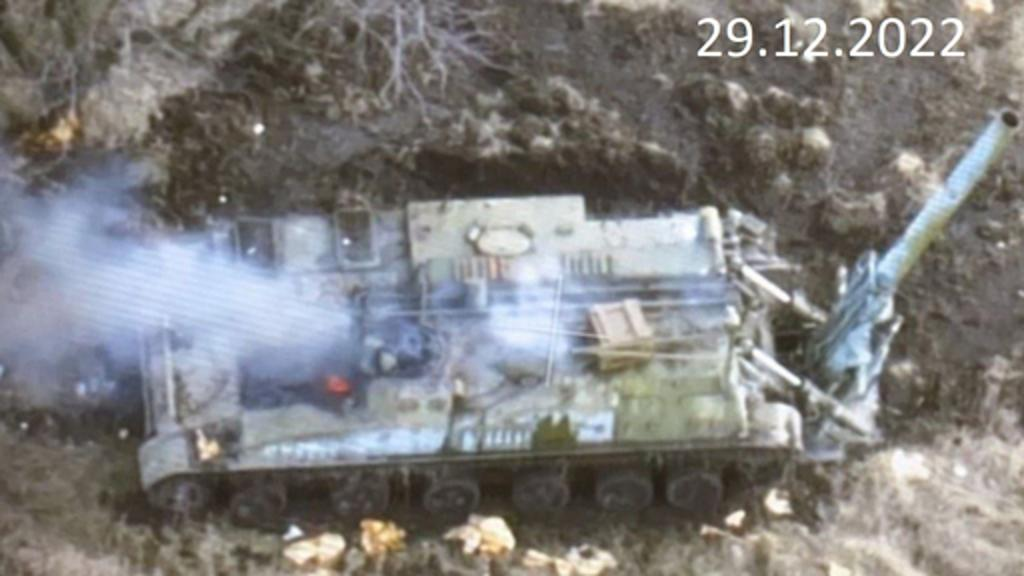APC-IFV: (128, 192, 810, 514)
